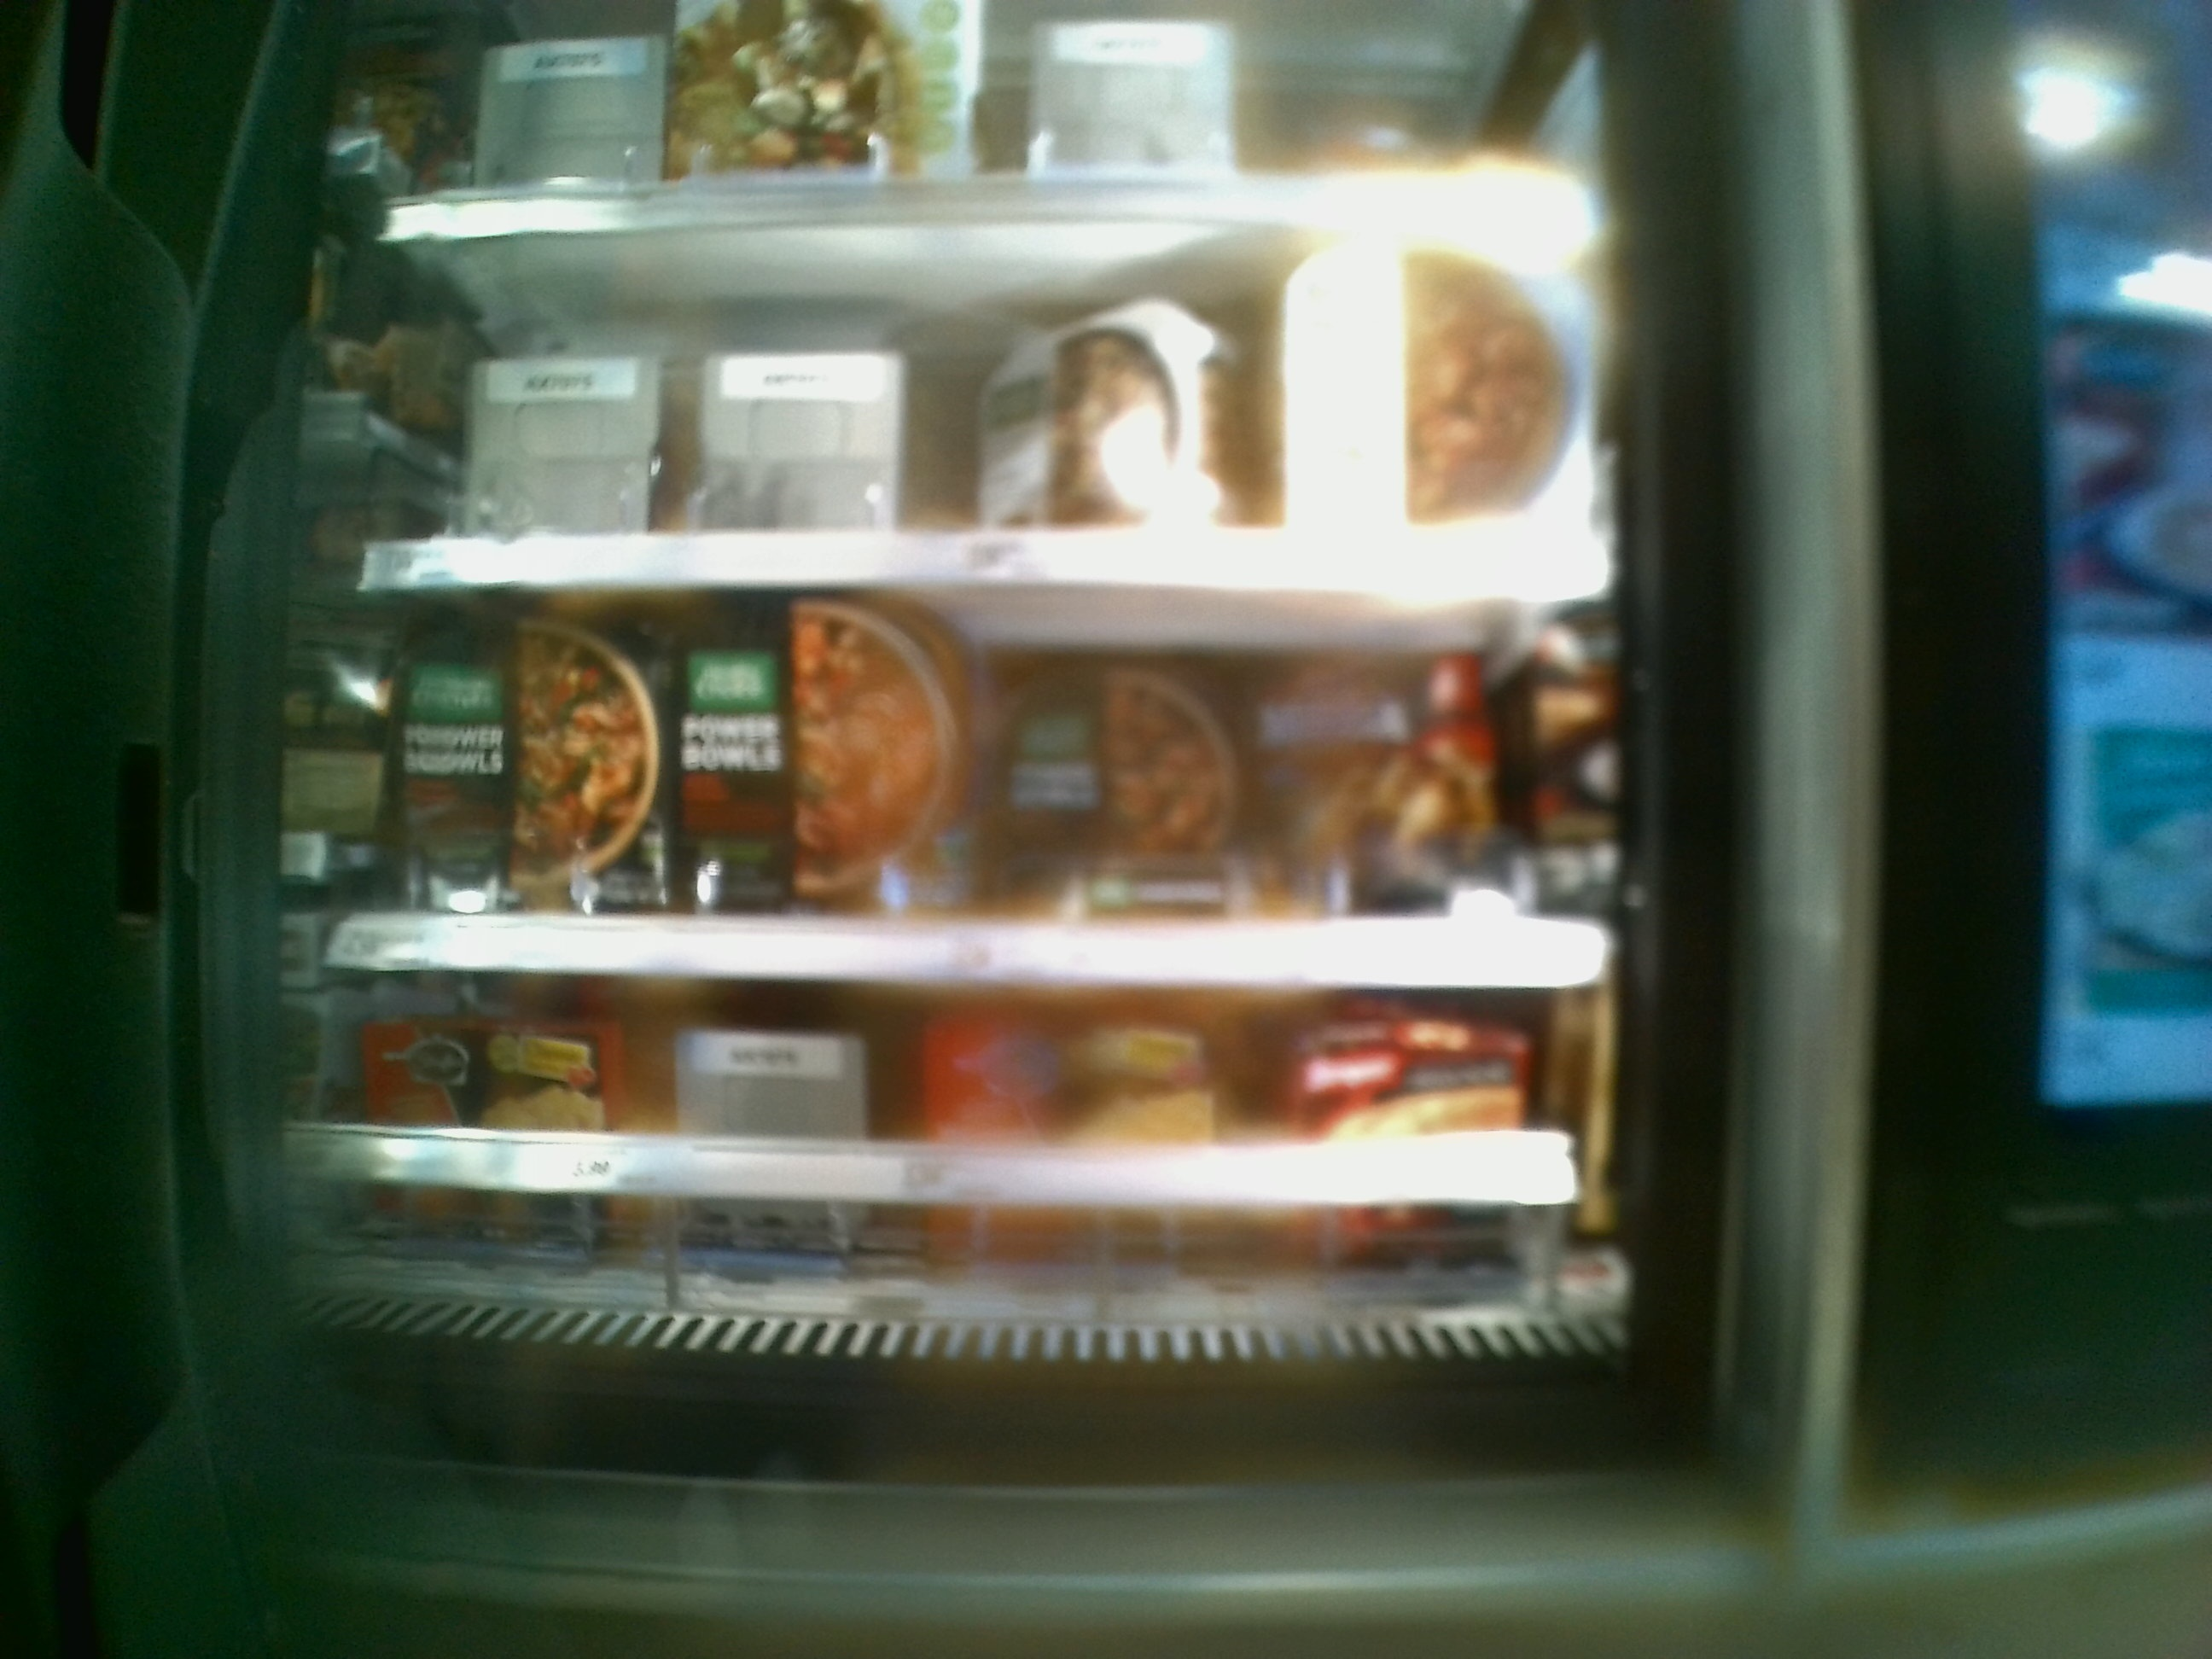shelf: (320, 964, 1618, 1378), (329, 580, 1609, 985)
